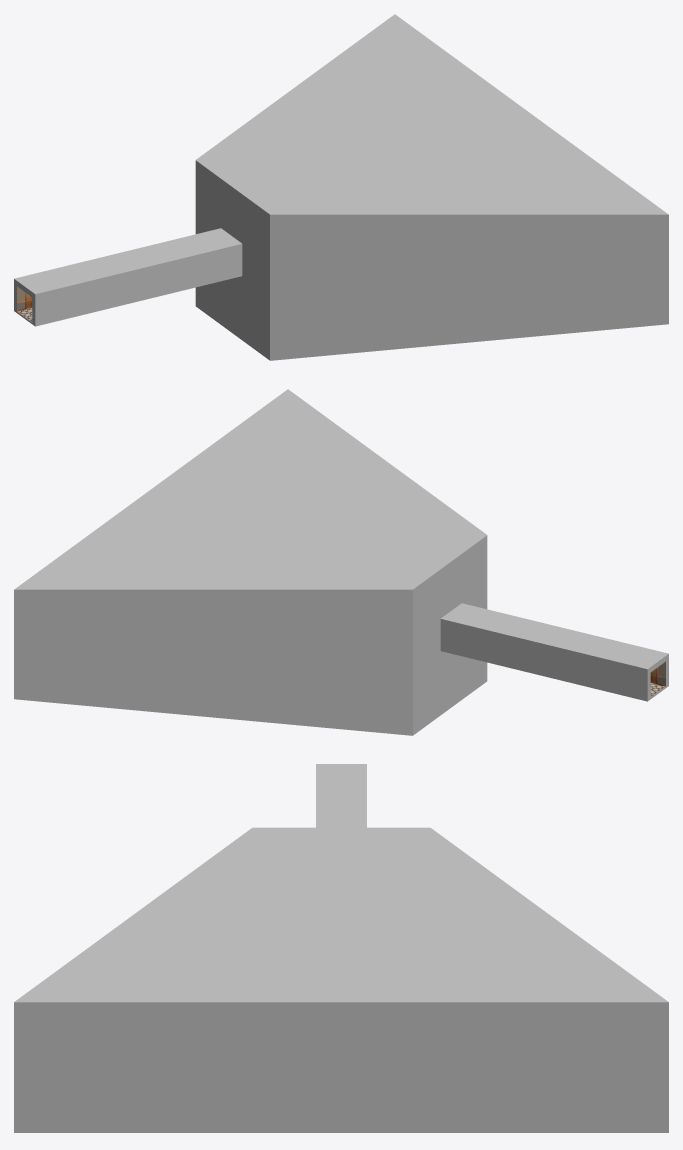
The model's file is Hallway68.dae.
3 views of the same model, one above another, from view 1: azimuth 30°, elevation 25°; view 2: azimuth 150°, elevation 25°; view 3: azimuth 270°, elevation 25° (orthographic). The views are drawn at different scales.
Visible parts, largest first — view 1: group_5, group_4, group_1; view 2: group_5, group_4, group_1; view 3: group_5, group_4, group_1.
Boxes of the visible parts, left/top/right/bottom form: group_5: left=195, top=160, right=668, bottom=360; group_4: left=196, top=14, right=668, bottom=214; group_1: left=14, top=228, right=242, bottom=326; group_5: left=14, top=535, right=487, bottom=735; group_4: left=14, top=389, right=486, bottom=589; group_1: left=440, top=603, right=668, bottom=701; group_5: left=14, top=1002, right=668, bottom=1132; group_4: left=14, top=827, right=668, bottom=1002; group_1: left=316, top=764, right=366, bottom=827.
Size of the model in its own units: 2320 by 2170 by 639.
